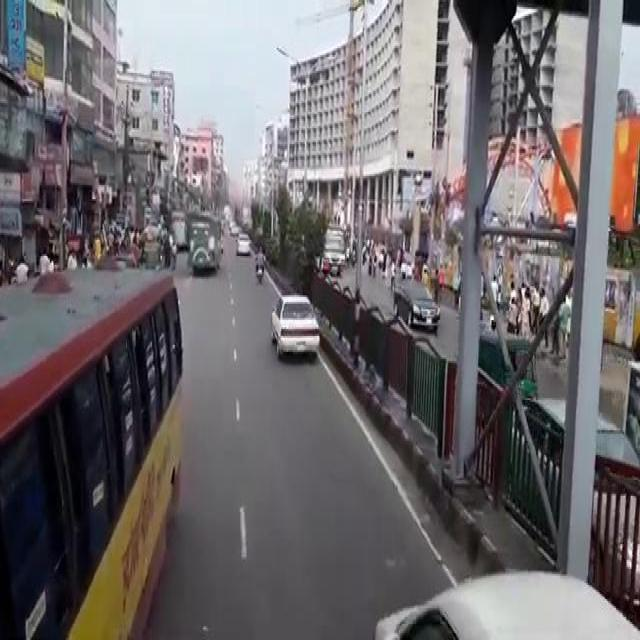10: (254, 254, 262, 283)
17: (476, 331, 540, 405)
5: (509, 394, 639, 602), (269, 292, 319, 352), (390, 276, 440, 328), (235, 231, 251, 253)
Truck: (0, 262, 187, 638), (187, 210, 221, 266), (314, 221, 346, 273)
